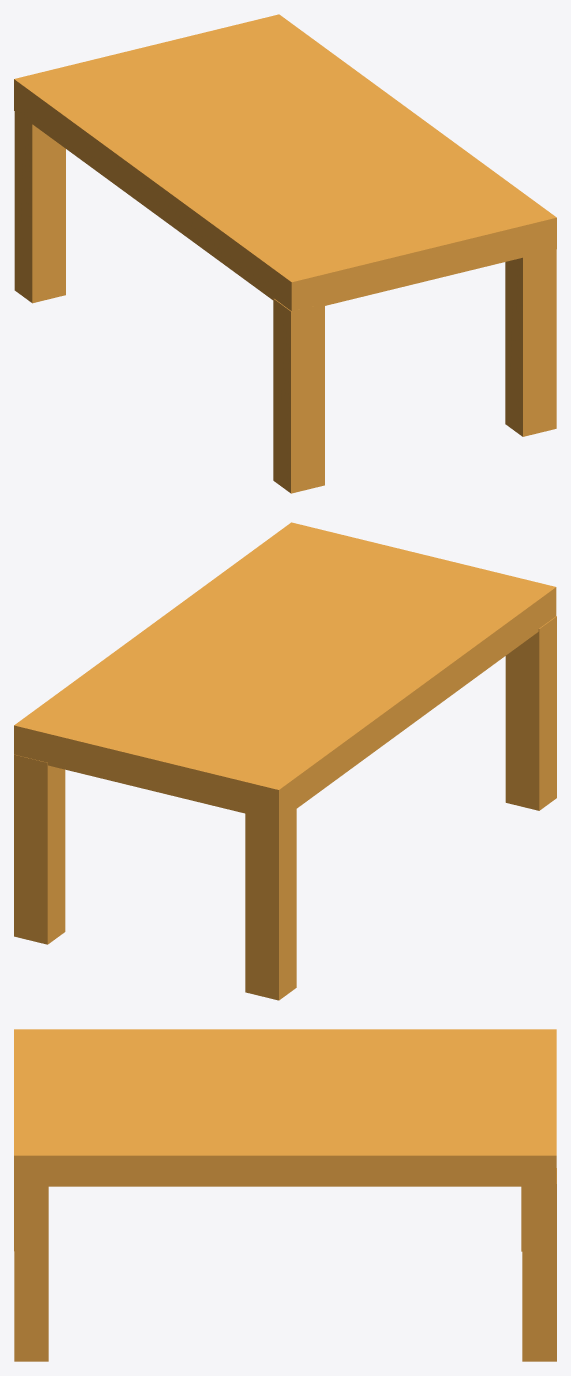
Rendered from Tisch.fbx.
3 views of the same model, one above another, from view 1: azimuth 30°, elevation 25°; view 2: azimuth 150°, elevation 25°; view 3: azimuth 270°, elevation 25° (orthographic). The views are drawn at different scales.
Visible parts, largest first — view 1: Cube.005; view 2: Cube.005; view 3: Cube.005.
Part boxes in pixels (x1,y1,x2,y2): Cube.005: (14,14,556,493); Cube.005: (14,522,556,1000); Cube.005: (14,1029,556,1361).
Size of the model in its own units: 572 by 434 by 1036.
